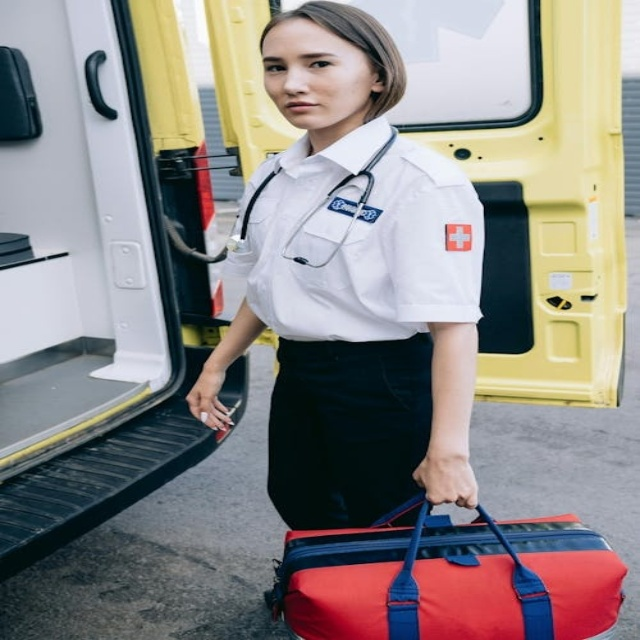Sin_gafas: (257, 49, 351, 80)
Sin_guantes: (412, 452, 485, 509), (179, 368, 242, 432)
Sin_mascara: (275, 96, 334, 126)
